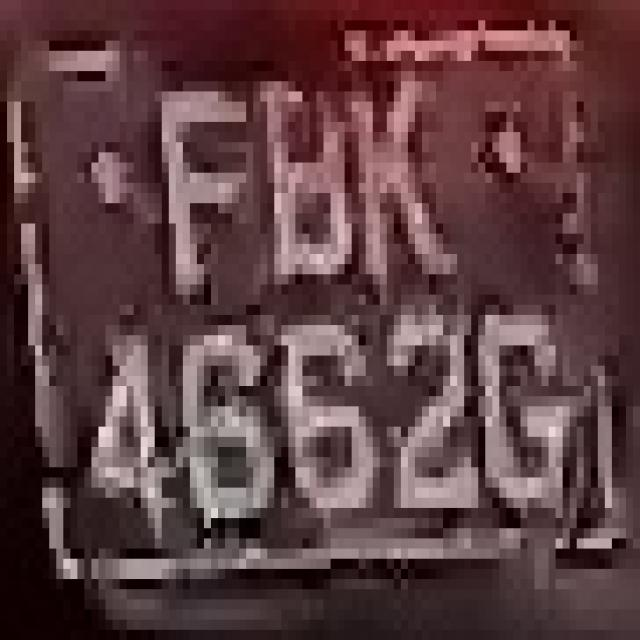2: (380, 294, 464, 548)
4: (70, 325, 183, 538)
6: (274, 305, 387, 528), (176, 304, 274, 548)
B: (239, 61, 359, 295)
F: (155, 61, 253, 295)
G: (471, 305, 584, 518)
K: (338, 51, 450, 294)
